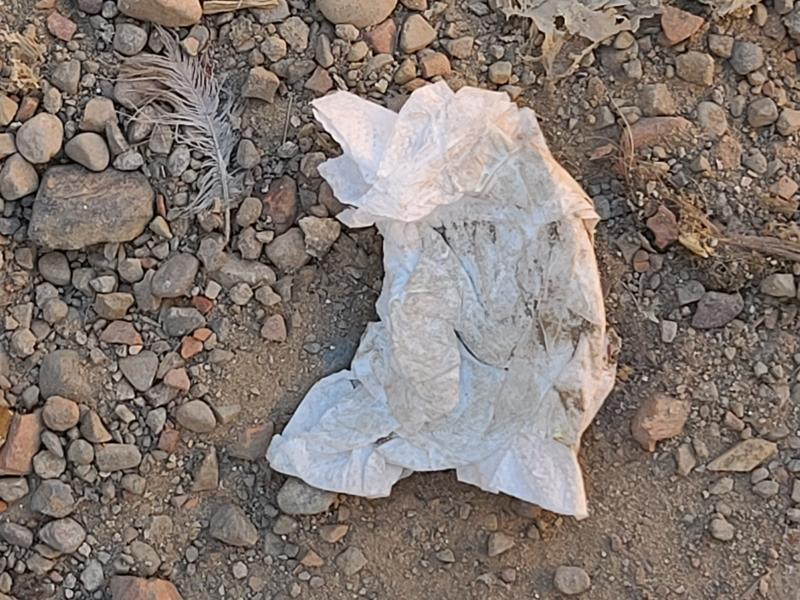papel: (264, 82, 618, 519)
